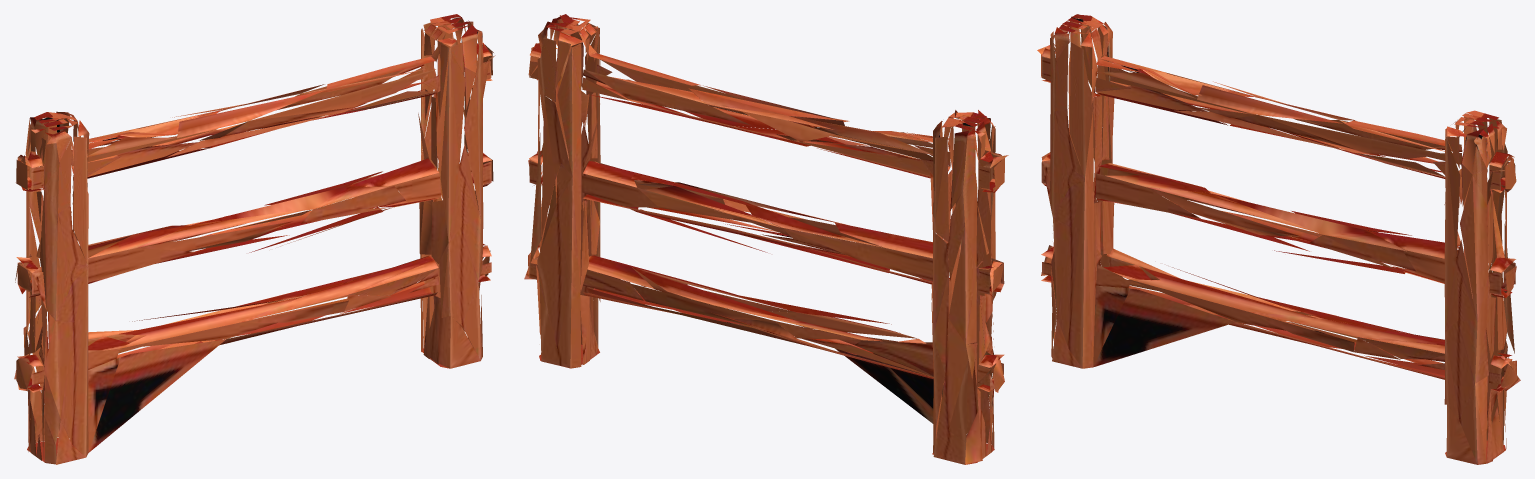
File: fence.glb
3 renders of one model, left to right at view 1: azimuth 30°, elevation 25°; view 2: azimuth 150°, elevation 25°; view 3: azimuth 330°, elevation 25°, orthographic.
Parts seen in each view (by area): view 1: output_unwrapped; view 2: output_unwrapped; view 3: output_unwrapped.
Part boxes in pixels (x1,y1,x2,y2): output_unwrapped: (14, 14, 495, 464); output_unwrapped: (524, 14, 1008, 464); output_unwrapped: (1037, 14, 1520, 464).
Size of the model in its own units: 1.92 by 1.3 by 0.2198.
1 material, 1 textured.
